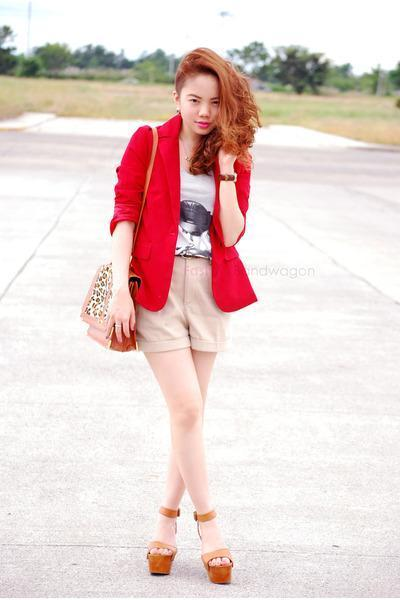bag: (80, 283, 140, 351)
jacket: (110, 112, 256, 312)
shirt: (176, 168, 214, 266)
shoe: (147, 508, 232, 584)
shorts: (129, 256, 227, 360)
